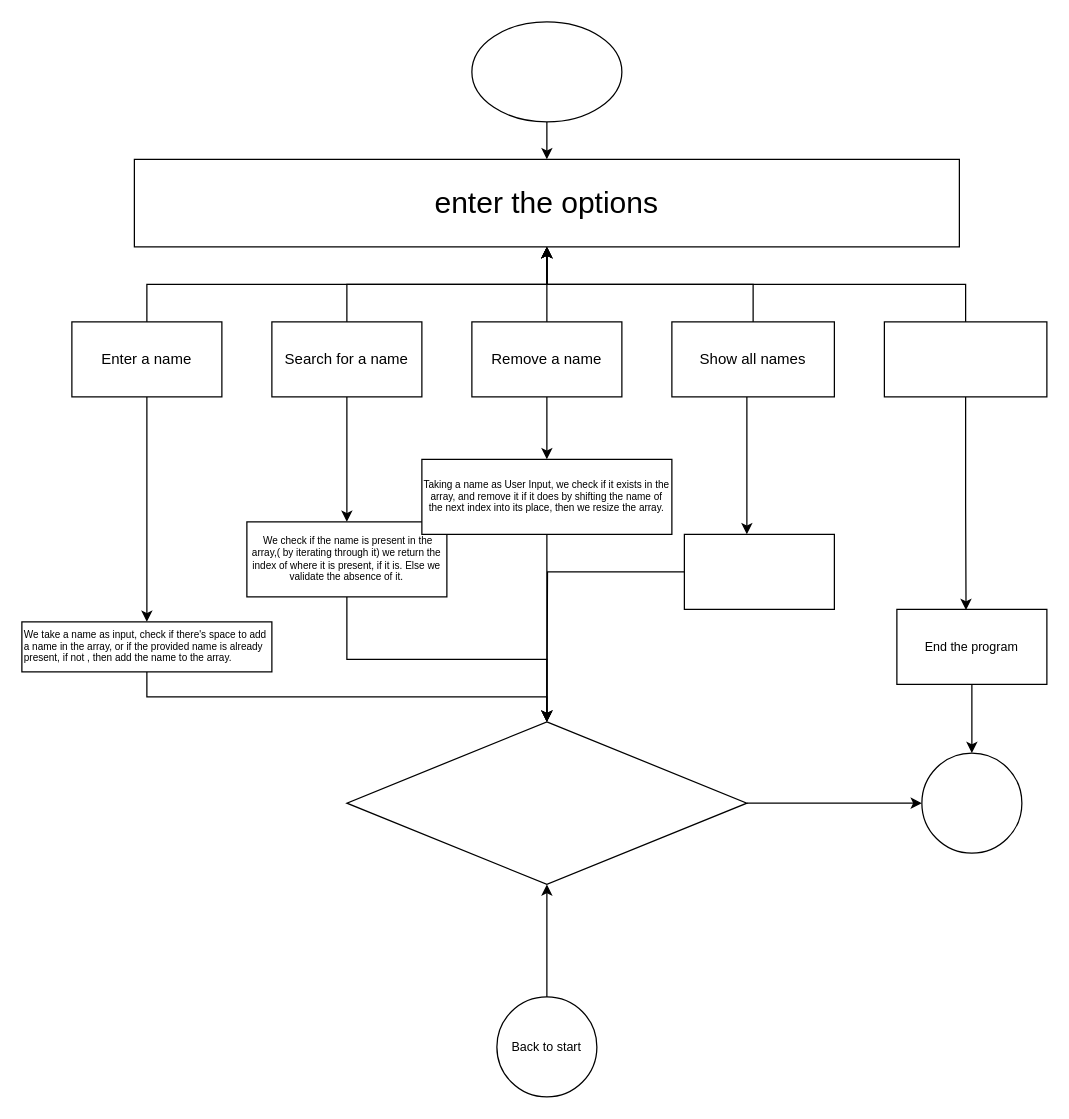
Image size: 1069x1119. Some labels were removed from this diagram. Here are the shapes that lost their labels. From the top down, the box of each, then its label:
(471, 21, 622, 122): Start
(883, 321, 1047, 397): Exit
(683, 533, 834, 609): Show all the names present in the array
(346, 721, 747, 884): Do you wish to continue
(921, 752, 1022, 853): End
